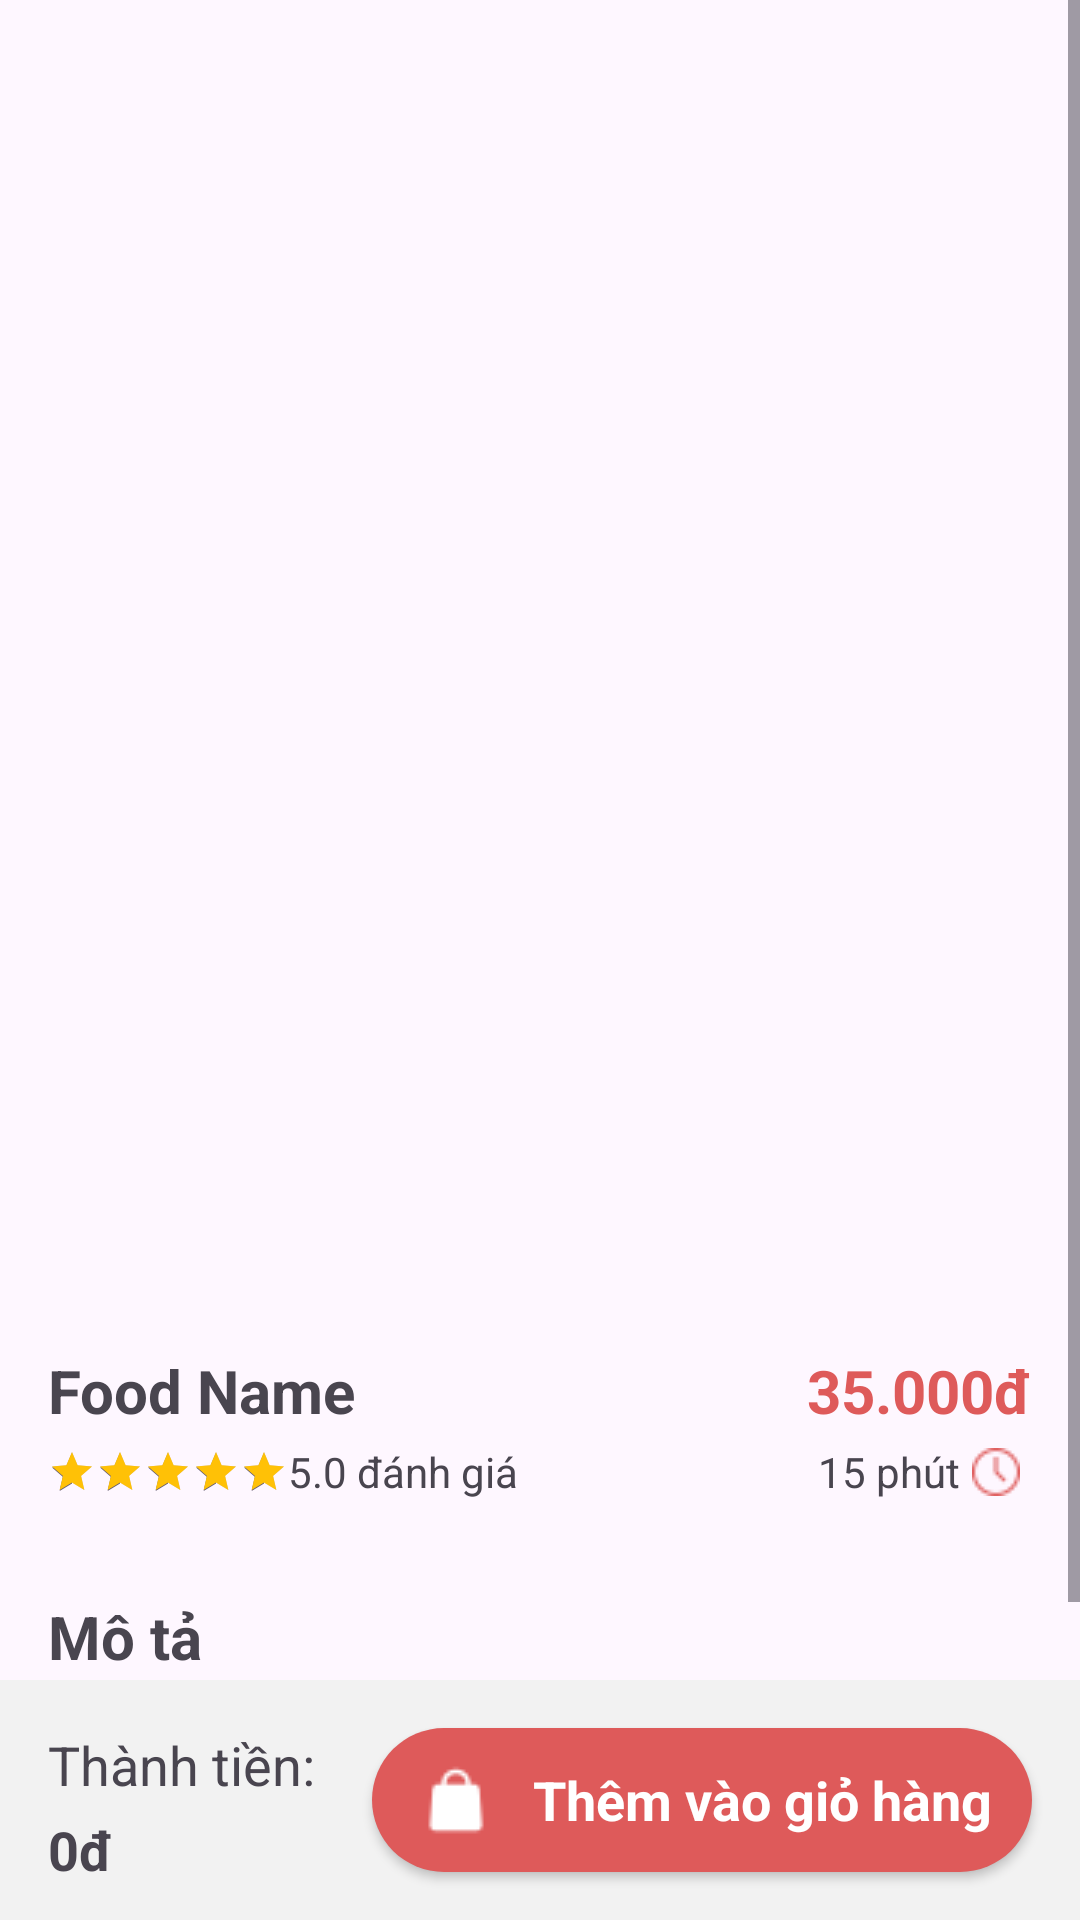

Named icons in this screenshot (1080 × 1920) and their bounding boxes, (x1, y1, x2, y2):
clock: (972, 1448, 1020, 1496)
